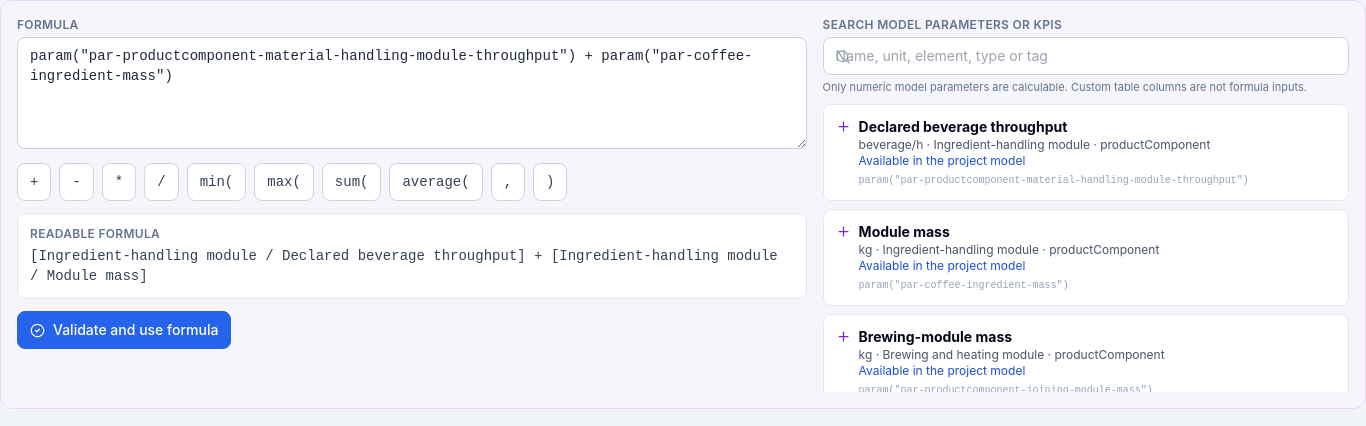
Test: guided KPI formula construction › blocks addition of model parameters with incompatible units before saving
The image size is (1366, 426).
What coordinates should you click on to do the following:
click the button "Validate and use formula"
I would click on:
 (124, 330)
Its box is [17,311,231,349].
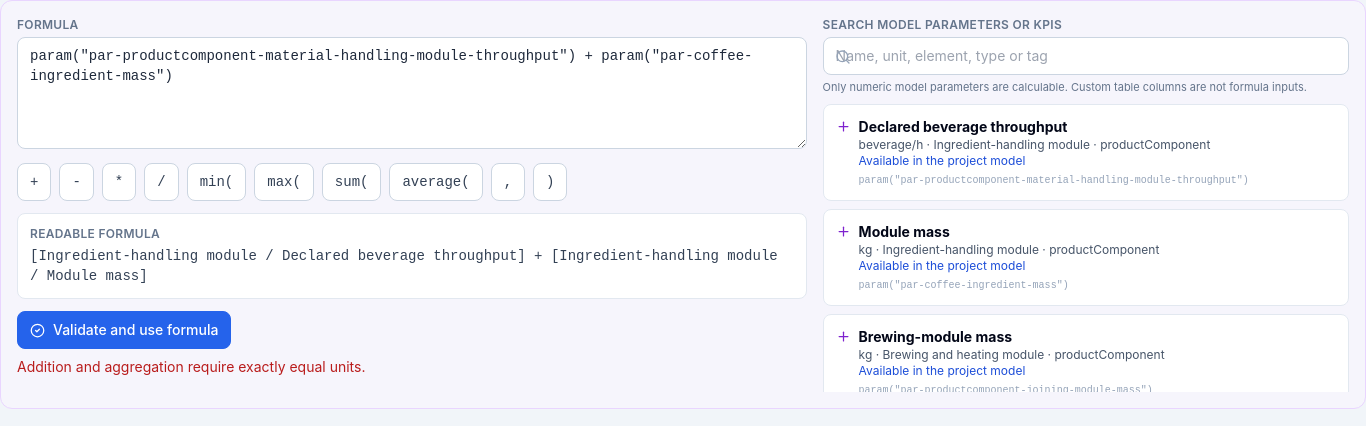
Expected: the text "Addition and aggregation require exactly equal units." is shown, [17,358,366,375]
